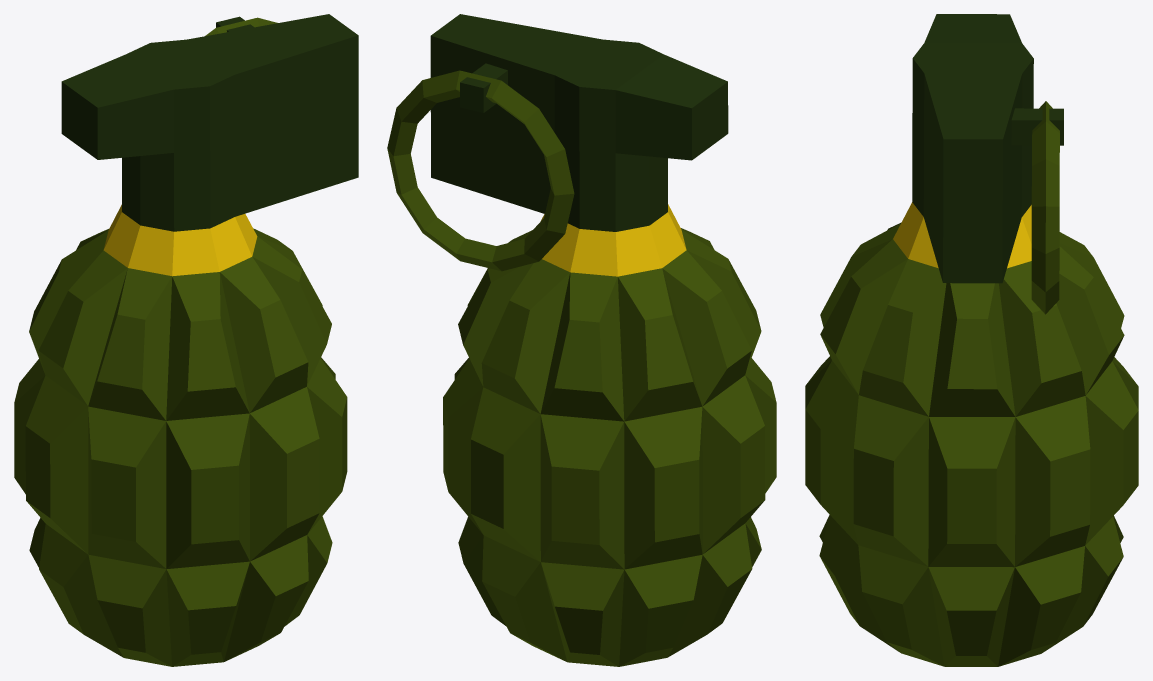
Rendered from Granada_Base.fbx.
3 renders of one model, left to right at view 1: azimuth 30°, elevation 25°; view 2: azimuth 150°, elevation 25°; view 3: azimuth 270°, elevation 25°, orthographic.
Parts seen in each view (by area): view 1: granada; view 2: granada; view 3: granada.
Part boxes in pixels (x1,y1,x2,y2): granada: [14, 14, 358, 666]; granada: [387, 14, 776, 666]; granada: [805, 14, 1138, 666].
Bounding box in the file's own units: 1.2 × 1.97 × 1.04.
